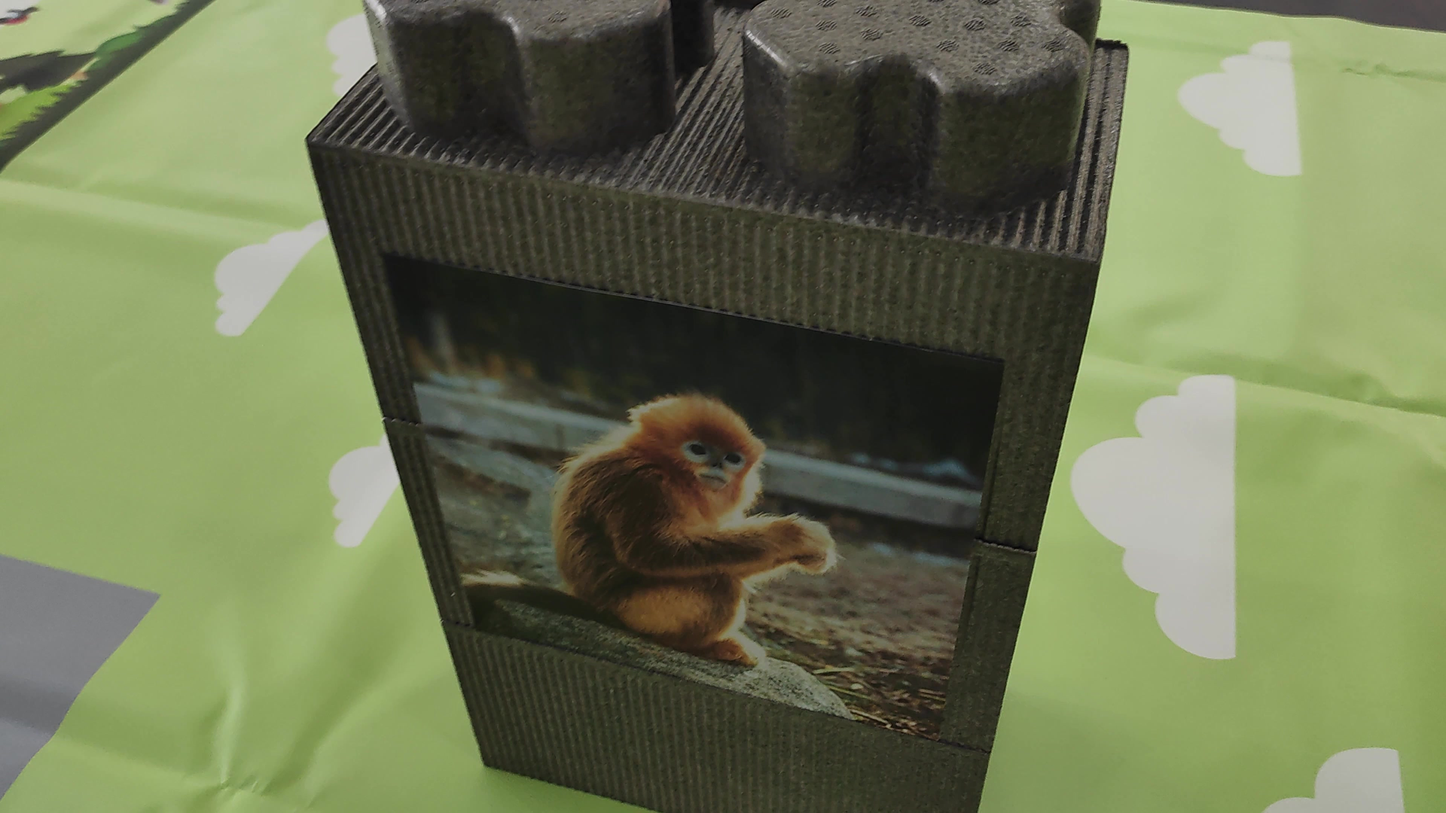monkey: (488, 337, 874, 685)
